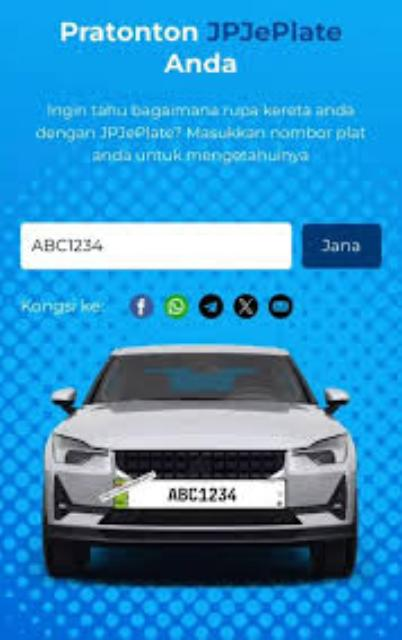License_Plate: (113, 475, 288, 510)
car: (42, 341, 358, 586)
